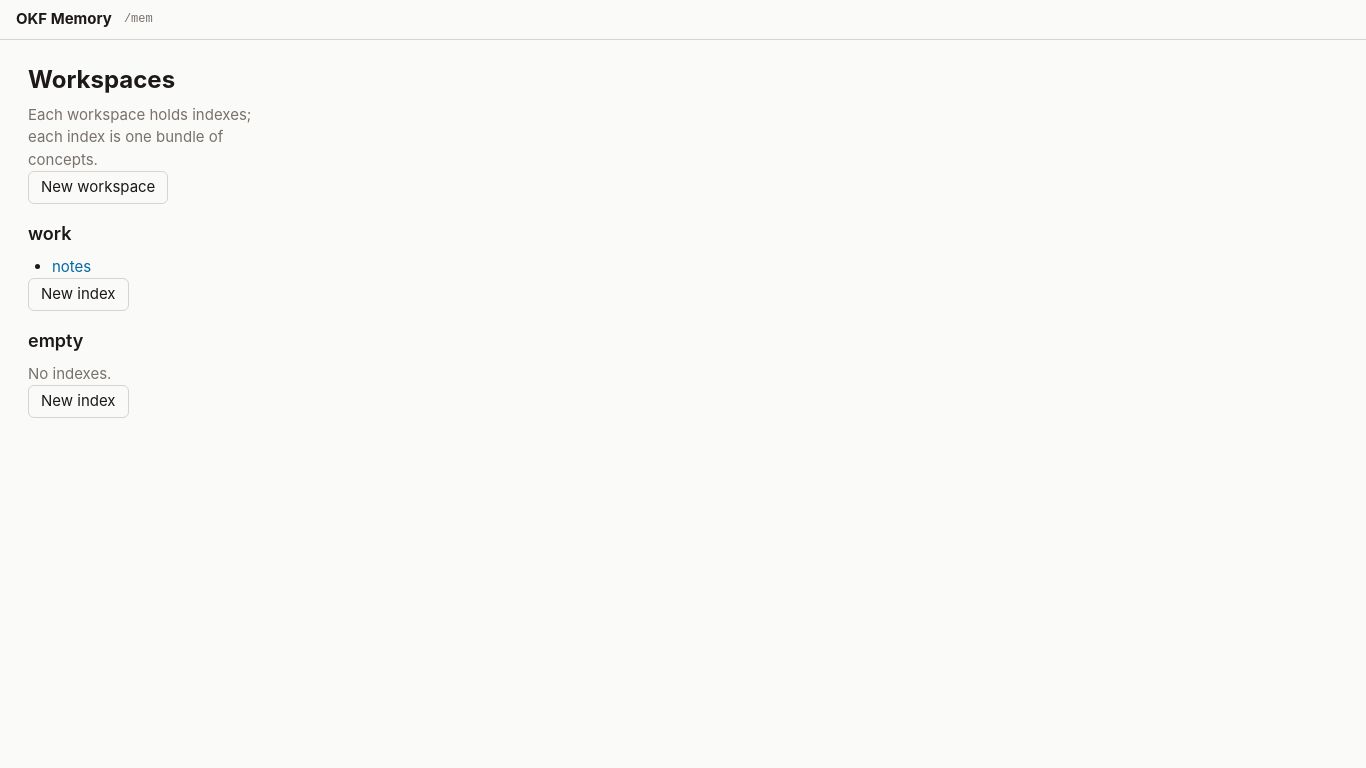
Test case: workspaces › creates a workspace and an index
Click the button "New workspace": click(98, 187) [28,171,168,204]
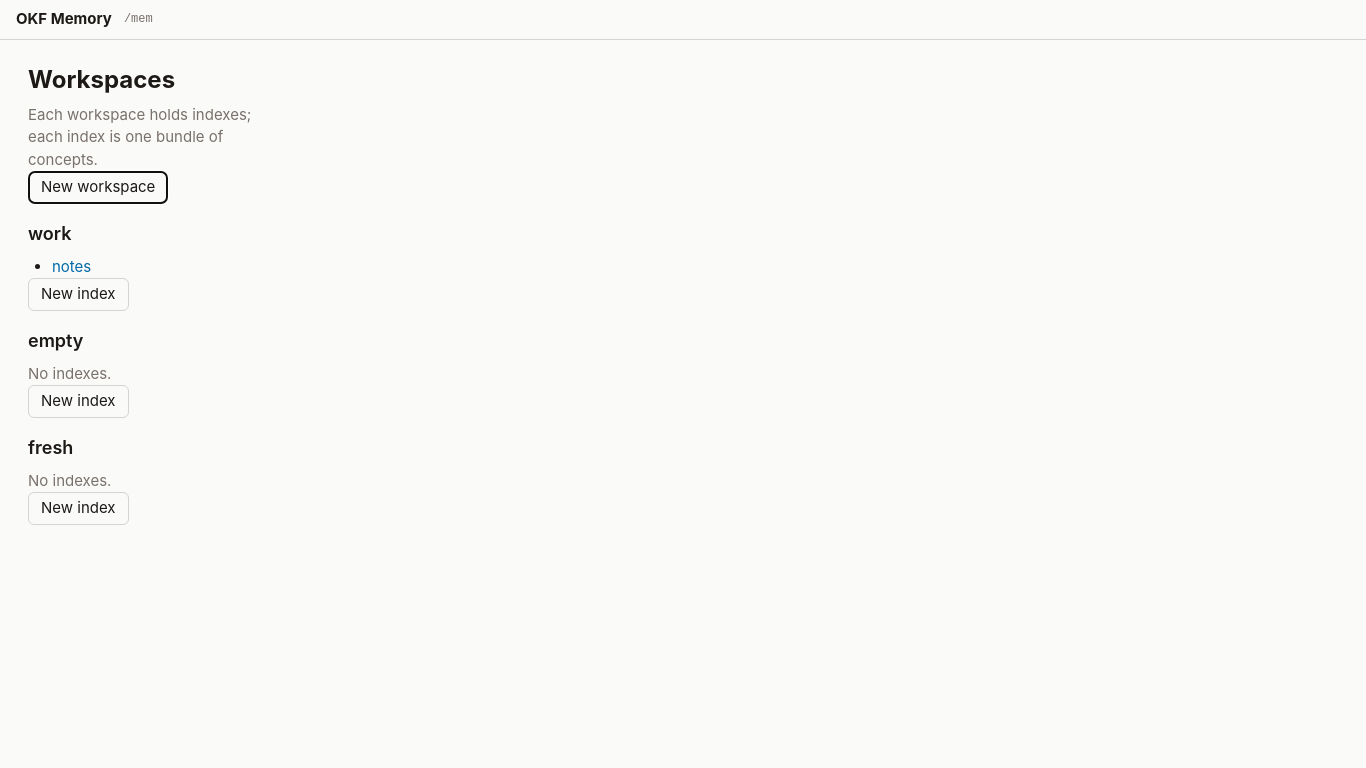
Click the button with aria-label "New index in fresh": click(78, 508) [28,492,128,524]
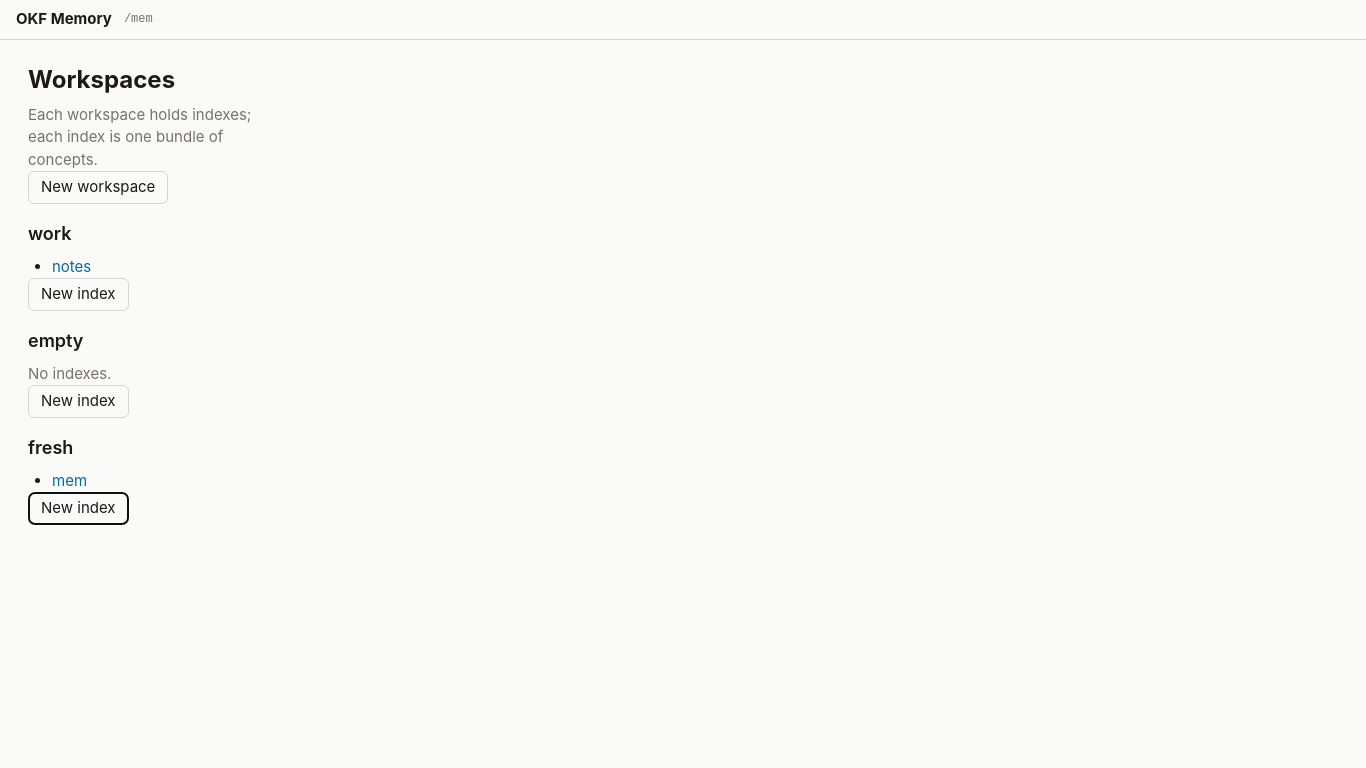
Check: the link "mem" is shown, box [52,470,87,490]
